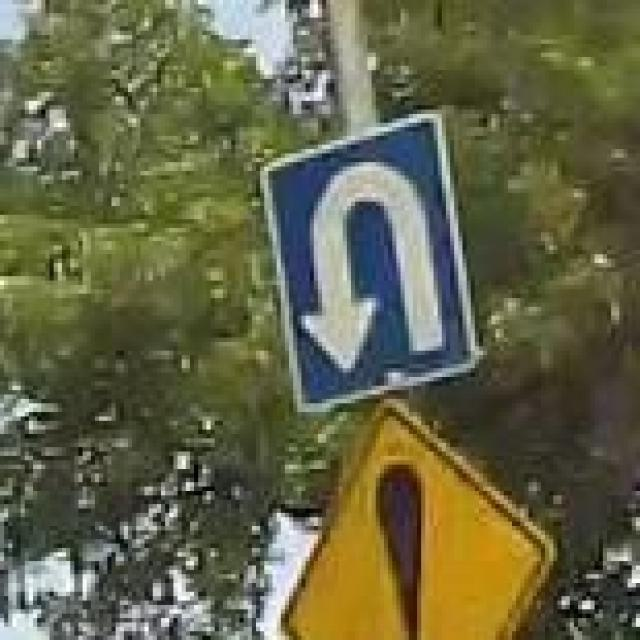U-turn: (282, 111, 469, 394)
